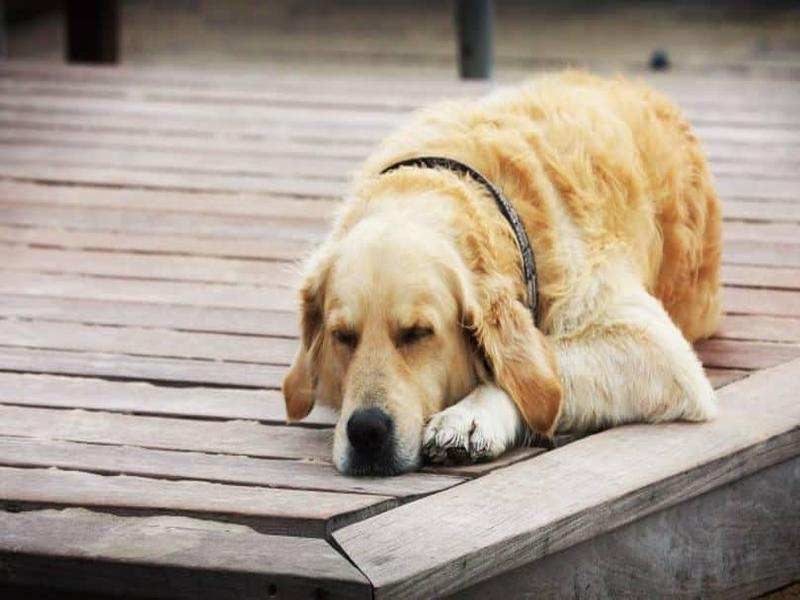dog_down: (281, 65, 729, 476)
